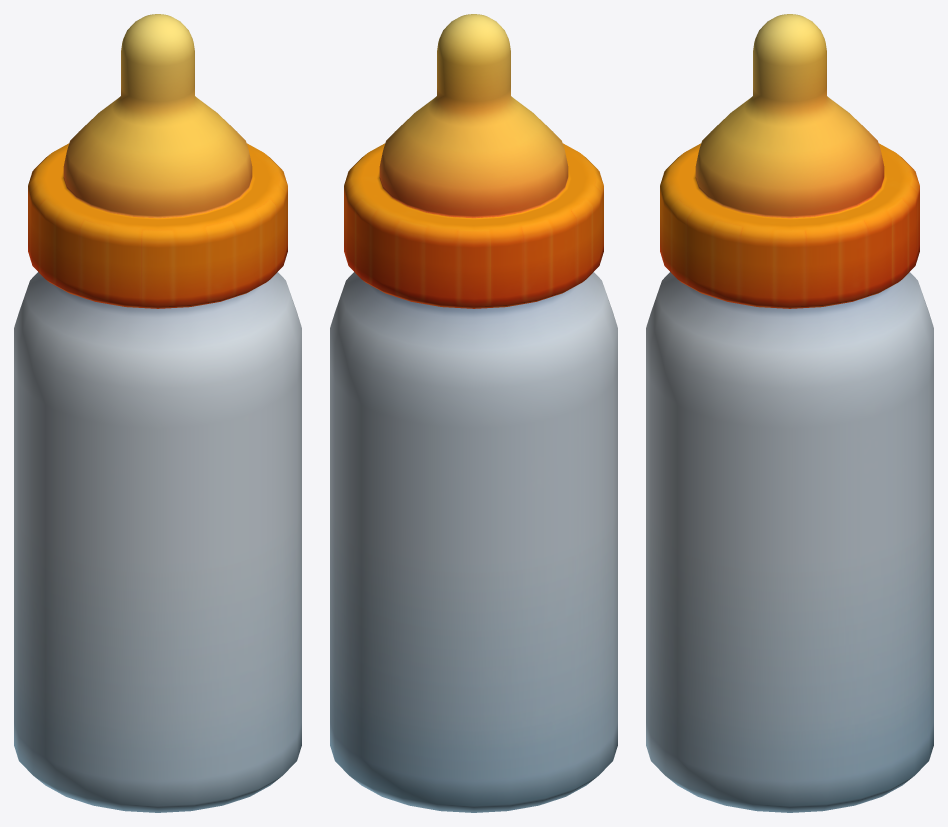
The model's file is BabyBottle.FBX.
The picture shows the model from 3 angles, left to right: view 1: azimuth 30°, elevation 25°; view 2: azimuth 150°, elevation 25°; view 3: azimuth 270°, elevation 25°; orthographic projection.
Parts seen in each view (by area): view 1: BabyBottle; view 2: BabyBottle; view 3: BabyBottle.
Boxes of the visible parts, bbox=[...] form: BabyBottle: bbox=[14, 14, 301, 812]; BabyBottle: bbox=[330, 14, 617, 812]; BabyBottle: bbox=[646, 14, 933, 812].
Size of the model in its own units: 20.45 by 58.05 by 20.45.
1 material, 1 textured.
